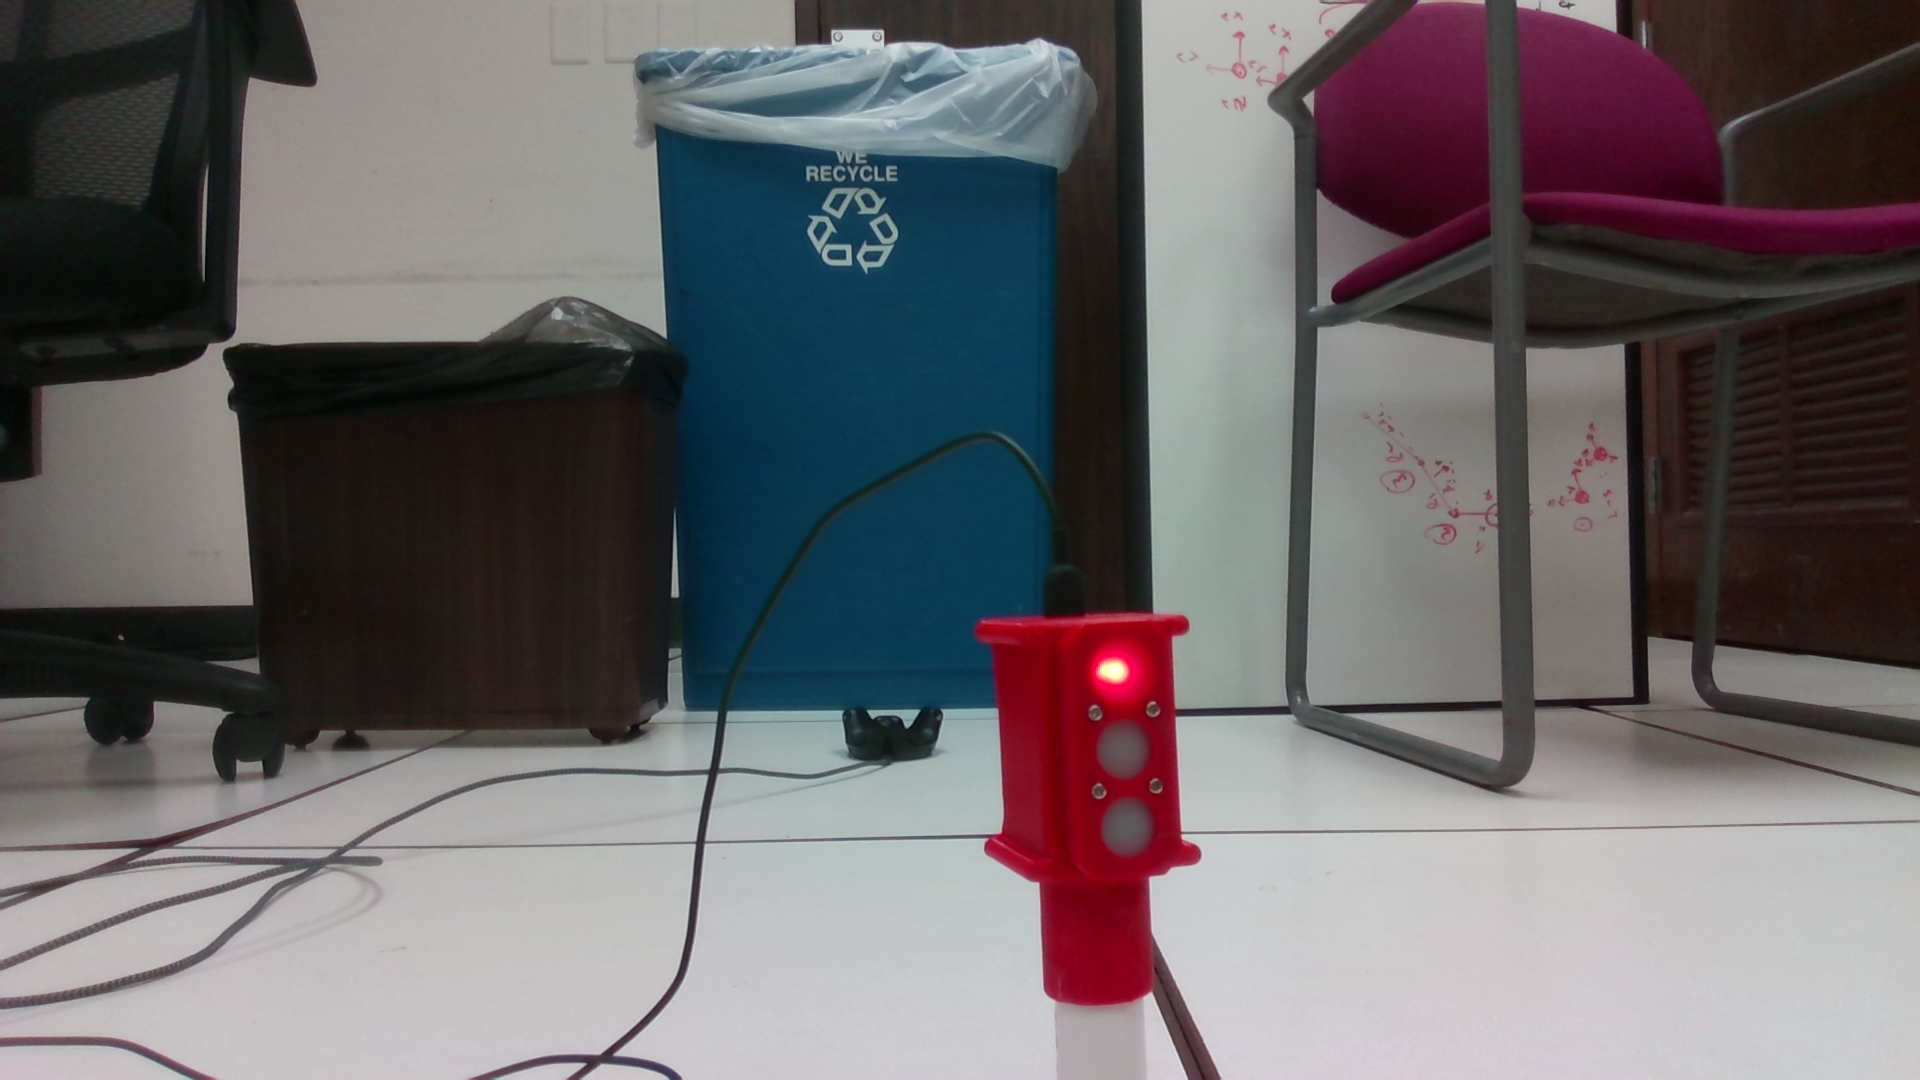stoplight: (975, 615, 1208, 1006)
